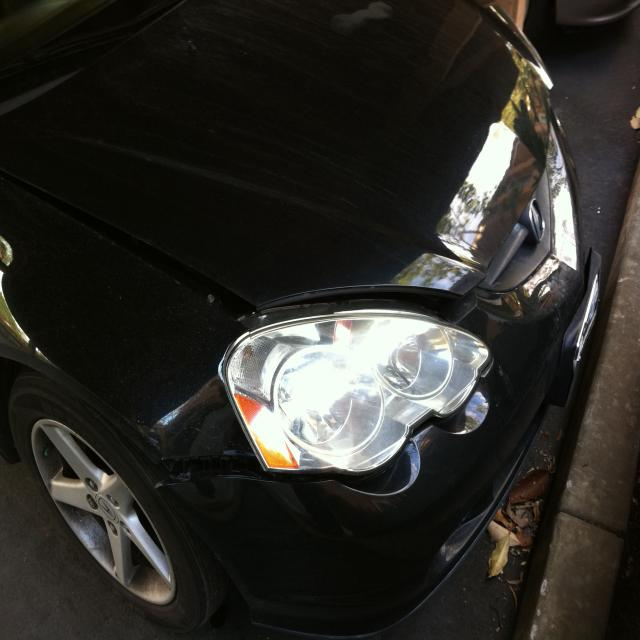misalignment: (0, 168, 258, 325), (156, 453, 351, 487)
